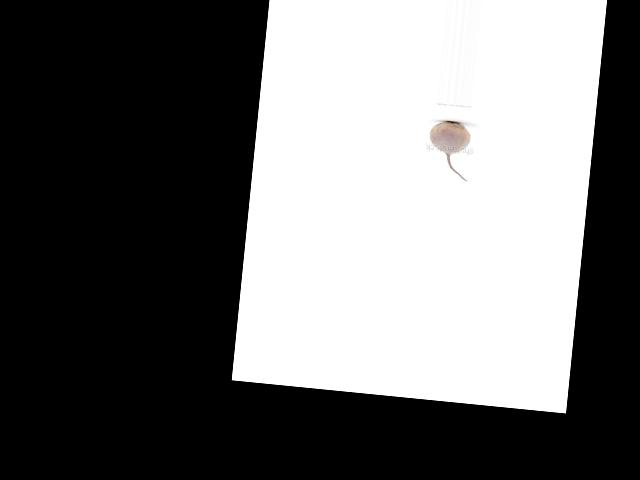beet: (424, 119, 472, 181)
